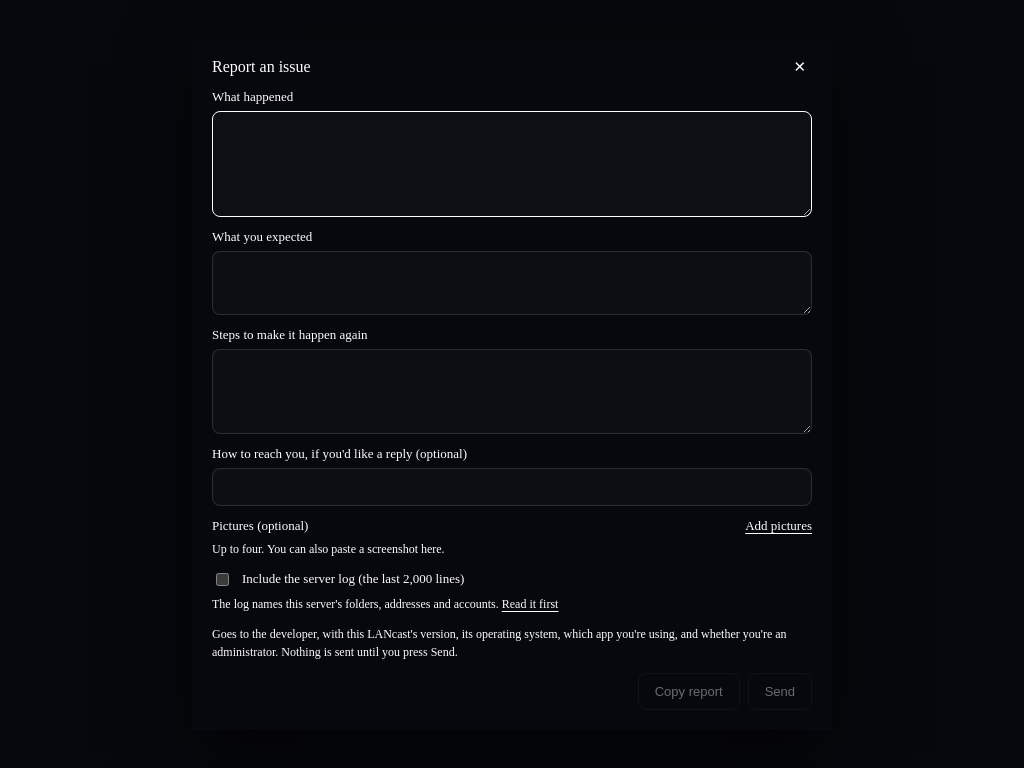
report an issue › shows the log before it is sent, when asked
Click the button "Read it first".
click(530, 604)  # box left=502, top=594, right=558, bottom=612
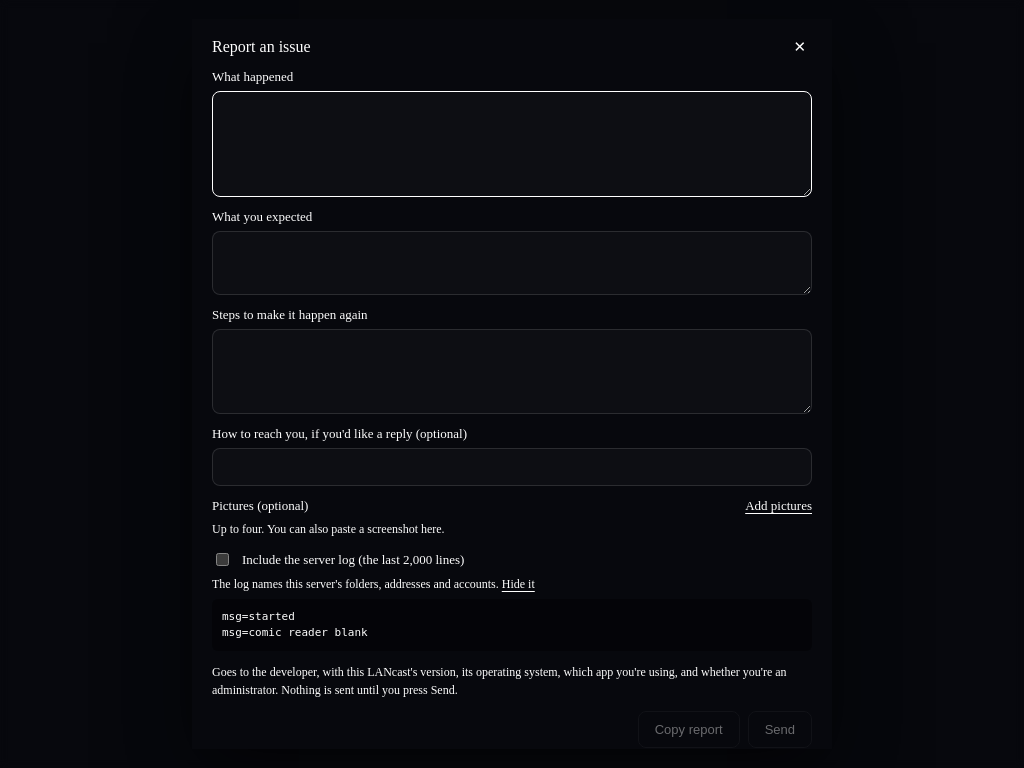
Result: the text with class "report__logview" shows "comic reader blank" at left=222, top=610, right=368, bottom=639
